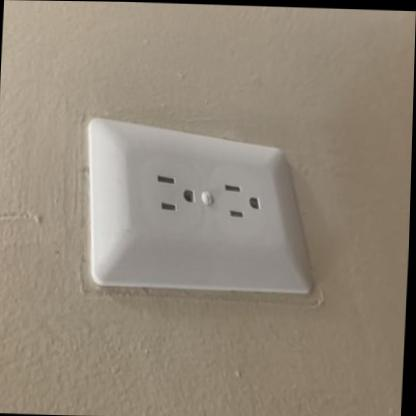OUTLET: (77, 115, 324, 310)
